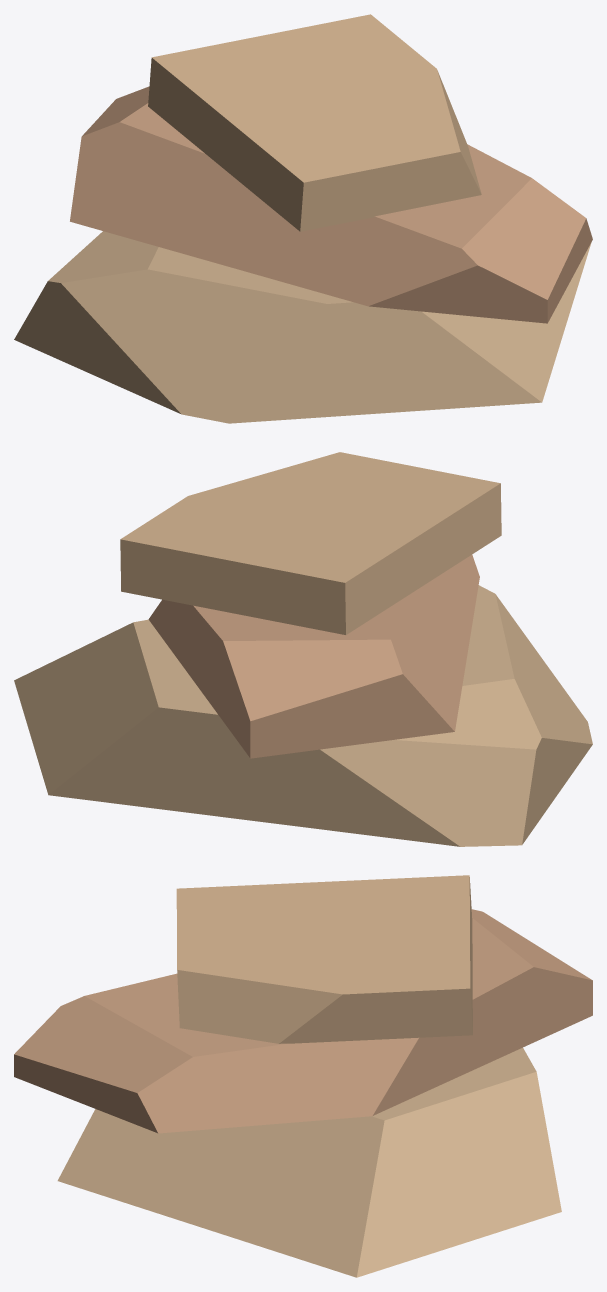
File: Rocks_Flat_m_02.fbx
The picture shows the model from 3 angles, top to bottom: view 1: azimuth 30°, elevation 25°; view 2: azimuth 150°, elevation 25°; view 3: azimuth 270°, elevation 25°; orthographic projection. The views are drawn at different scales.
Visible parts, largest first — view 1: Rocks_Flat_m_02; view 2: Rocks_Flat_m_02; view 3: Rocks_Flat_m_02.
Boxes of the visible parts, <box> form: Rocks_Flat_m_02: <box>14,14,592,423</box>; Rocks_Flat_m_02: <box>14,452,592,846</box>; Rocks_Flat_m_02: <box>14,875,592,1277</box>.
Bounding box in the file's own units: 186 × 76.52 × 180.
